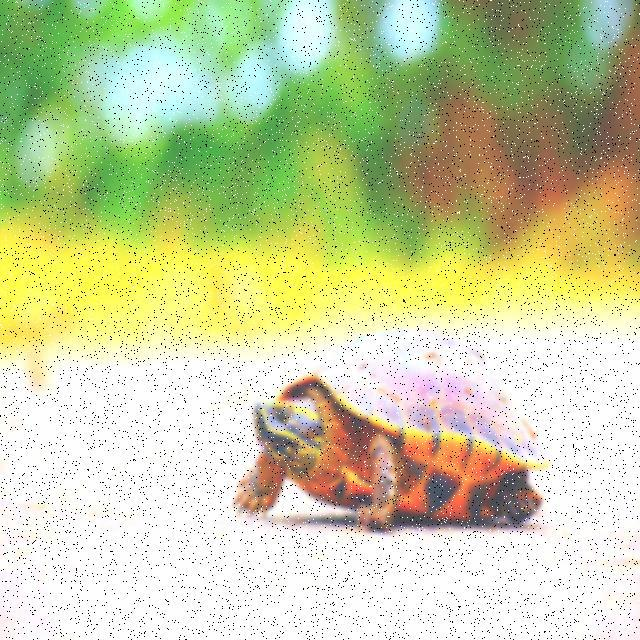tortoise: (240, 359, 564, 539)
